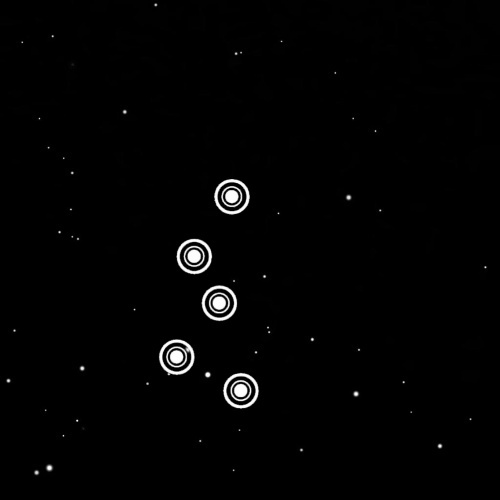cassiopeia: (142, 164, 274, 419)
